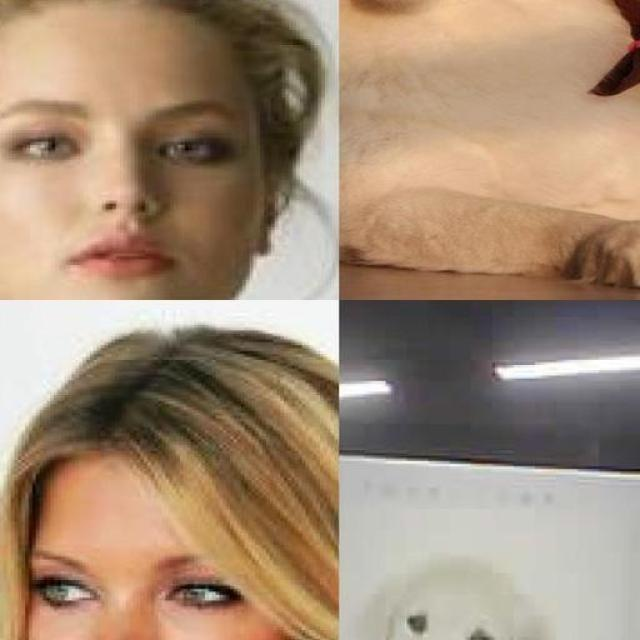bareface: (0, 11, 288, 281)
